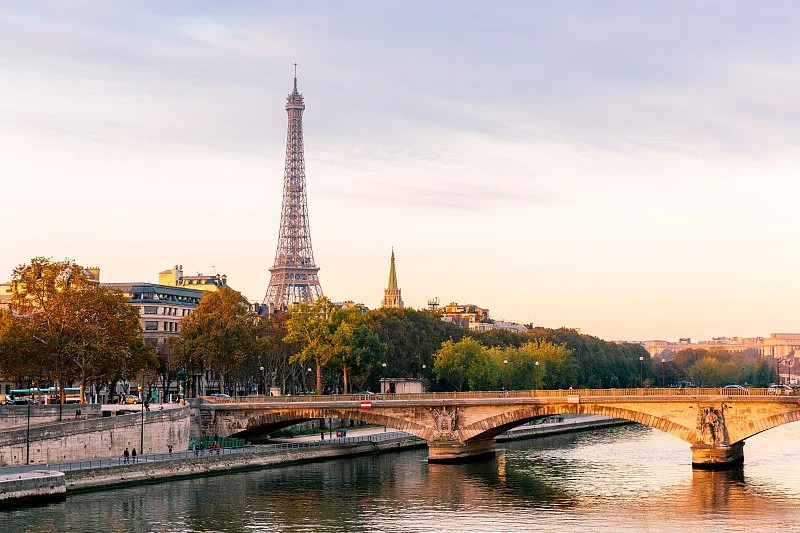Eiffel: (262, 63, 325, 308)
